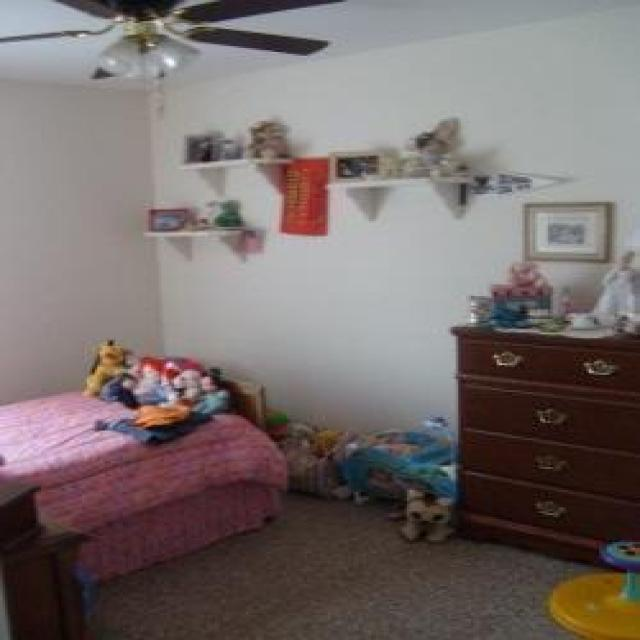bed: (0, 372, 289, 588)
cupboard: (448, 319, 637, 567)
windows: (520, 200, 612, 261)
